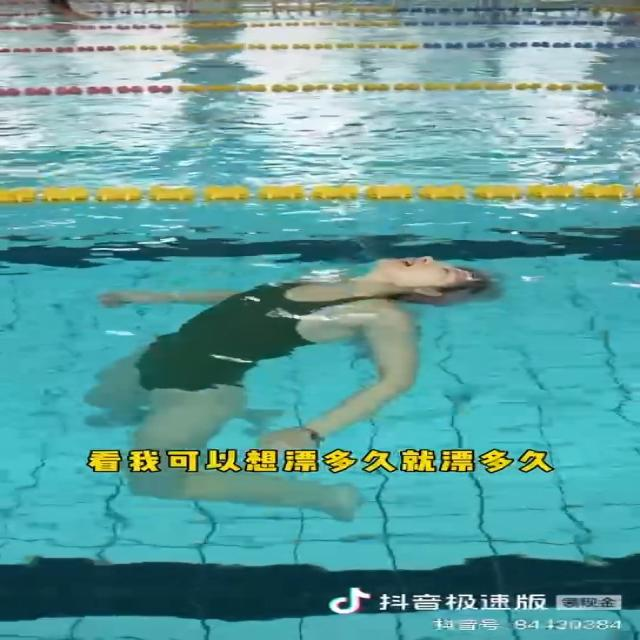Drowning: (88, 257, 494, 522)
